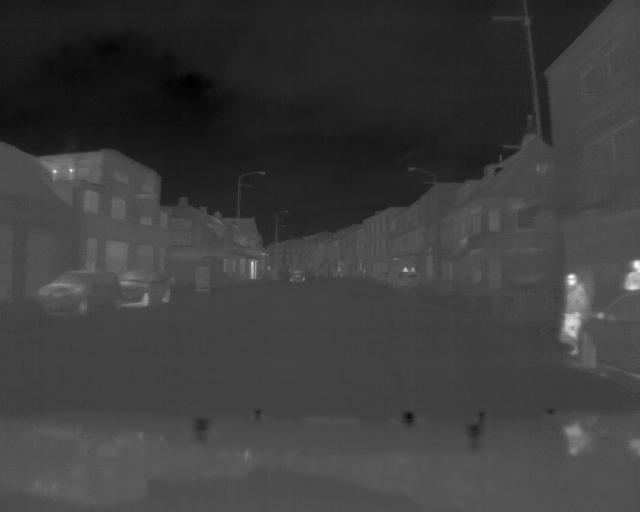car: (579, 293, 640, 372), (39, 267, 121, 316), (124, 262, 175, 306), (285, 267, 305, 285)
person: (553, 261, 583, 350), (618, 256, 640, 291)
